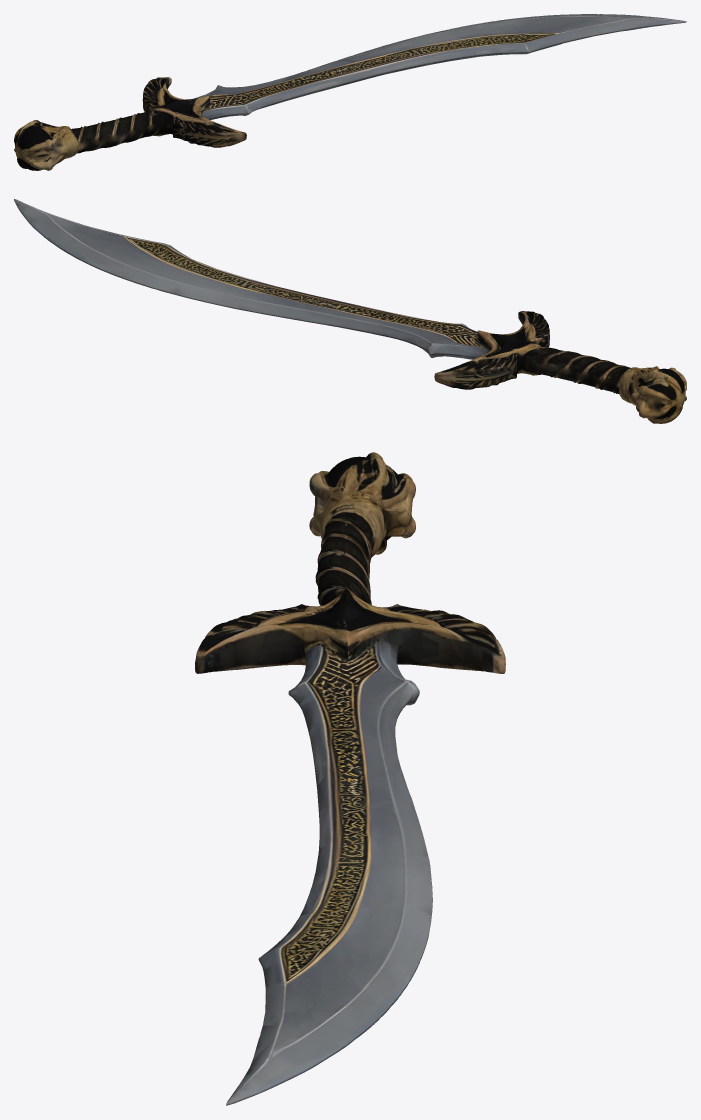
3 renders of one model, top to bottom at view 1: azimuth 30°, elevation 25°; view 2: azimuth 150°, elevation 25°; view 3: azimuth 270°, elevation 25°, orthographic. The views are drawn at different scales.
Parts seen in each view (by area): view 1: node_0; view 2: node_0; view 3: node_0.
Boxes of the visible parts, bbox=[...] form: node_0: bbox=[14, 14, 686, 170]; node_0: bbox=[14, 199, 686, 423]; node_0: bbox=[195, 452, 505, 1105].
Bounding box in the file's own units: 0.9436 × 0.0683 × 0.1997.
1 material, 1 textured.
